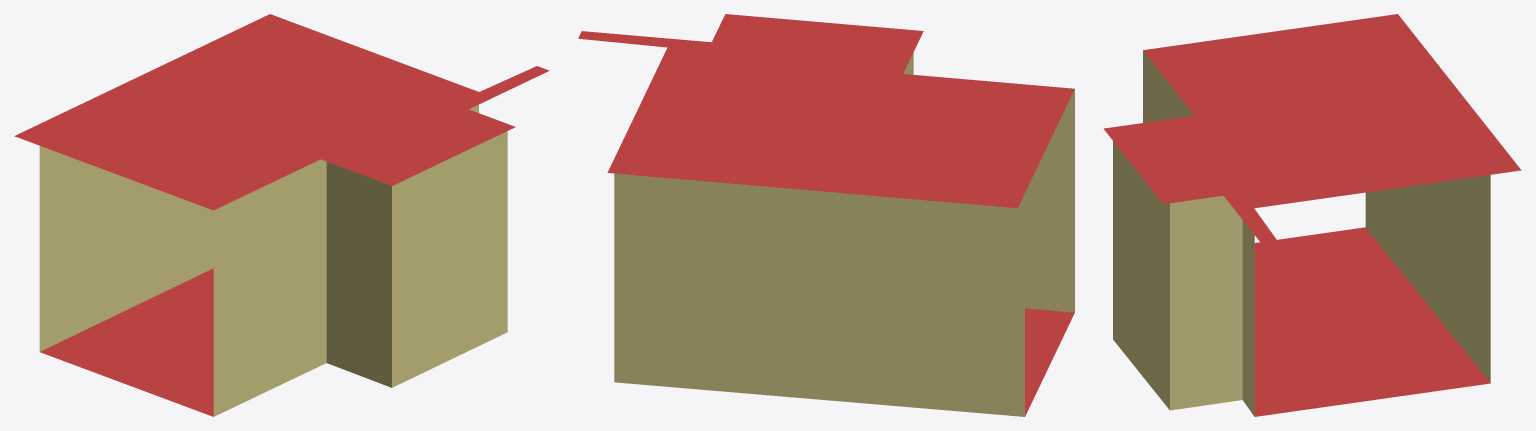
3 renders of one model, left to right at view 1: azimuth 30°, elevation 25°; view 2: azimuth 150°, elevation 25°; view 3: azimuth 270°, elevation 25°, orthographic. The views are drawn at different scales.
Bounding box in the file's own units: 15.68 × 11.98 × 6.6.
